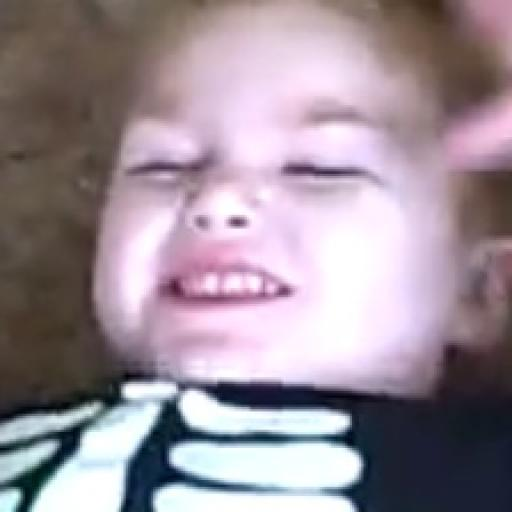Autism: (57, 4, 512, 399)
